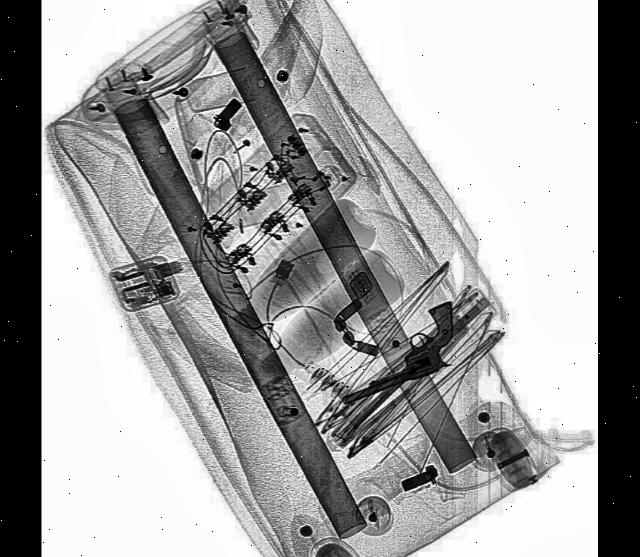Gun: (328, 300, 465, 405)
